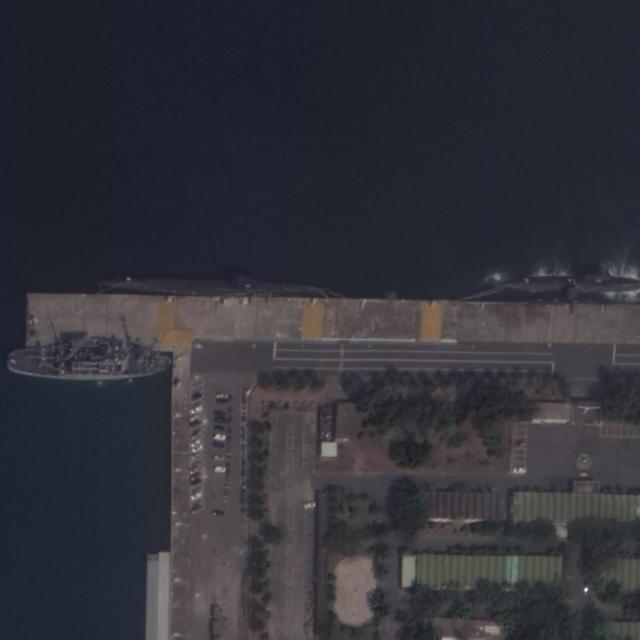Other Warship: (9, 345, 171, 386)
Submarine: (103, 277, 317, 297), (505, 276, 639, 293)
